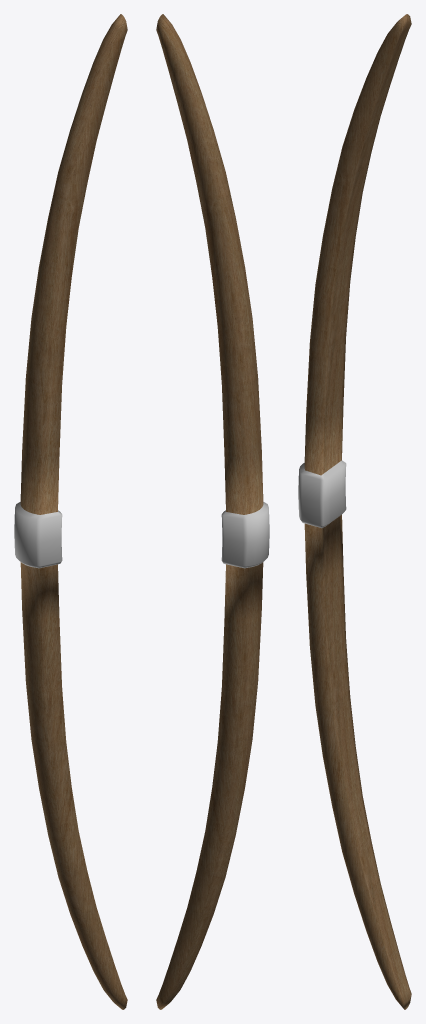
Rendered from Bow_V01.fbx.
3 views of the same model, side by side, from view 1: azimuth 30°, elevation 25°; view 2: azimuth 150°, elevation 25°; view 3: azimuth 330°, elevation 25° (orthographic).
Visible parts, largest first — view 1: Bow_version_02_E; view 2: Bow_version_02_E; view 3: Bow_version_02_E.
Boxes of the visible parts, x1,y1,x2,y2 form: Bow_version_02_E: [14, 14, 127, 1009]; Bow_version_02_E: [156, 14, 269, 1009]; Bow_version_02_E: [298, 14, 411, 1009].
Size of the model in its own units: 42.52 by 385 by 16.8.
